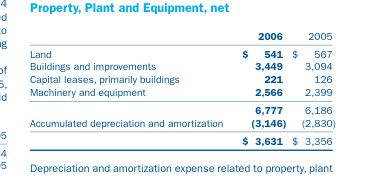table: (28, 29, 334, 146)
table column: (28, 29, 231, 146), (231, 29, 288, 146), (288, 29, 334, 146)
table column header: (28, 29, 334, 44)
table row: (28, 115, 334, 131), (28, 29, 334, 44), (28, 44, 334, 59), (28, 85, 334, 100), (28, 100, 334, 115), (28, 131, 334, 146), (28, 59, 334, 72), (28, 72, 334, 85)
